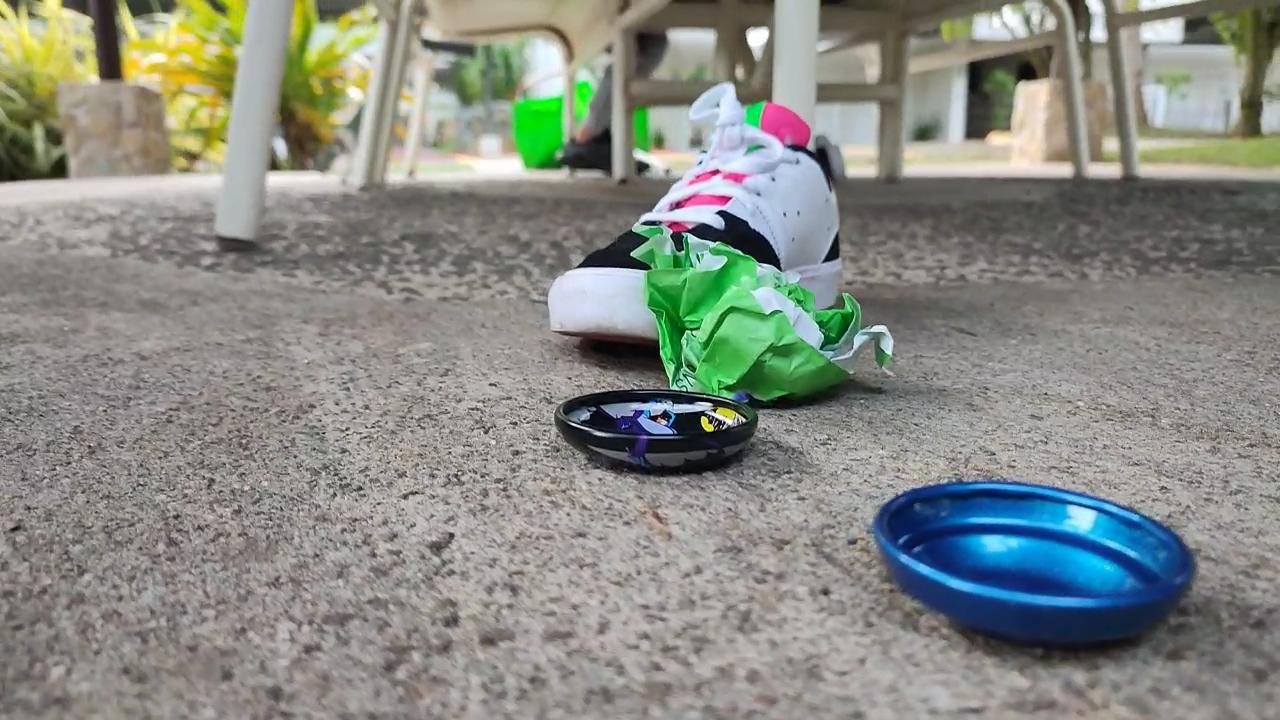Paper: (634, 223, 909, 404)
